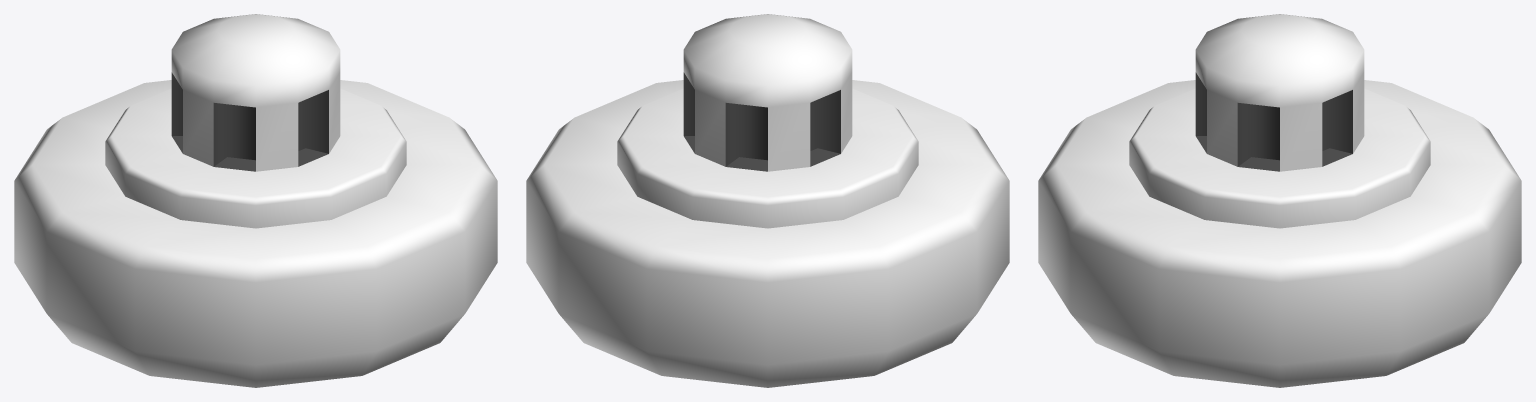
The model's file is SM_Smoke_Detector_01.fbx.
The picture shows the model from 3 angles, left to right: view 1: azimuth 30°, elevation 25°; view 2: azimuth 150°, elevation 25°; view 3: azimuth 270°, elevation 25°; orthographic projection.
Visible parts, largest first — view 1: SM_Smoke_Detector_01; view 2: SM_Smoke_Detector_01; view 3: SM_Smoke_Detector_01.
Boxes of the visible parts, x1,y1,x2,y2 form: SM_Smoke_Detector_01: [14, 14, 497, 387]; SM_Smoke_Detector_01: [526, 14, 1009, 387]; SM_Smoke_Detector_01: [1038, 14, 1521, 387].
Bounding box in the file's own units: 40.45 × 24.69 × 40.45.
